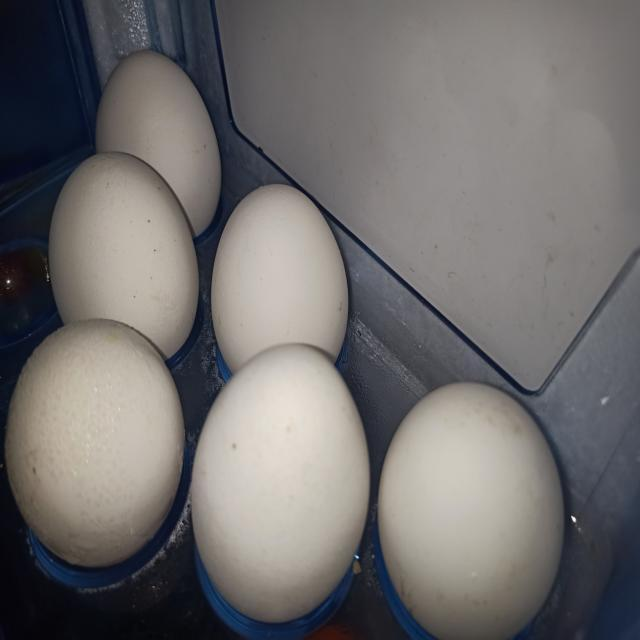Egg: (191, 344, 370, 624), (379, 383, 565, 640), (4, 318, 184, 568), (48, 151, 198, 359), (211, 184, 348, 374), (95, 50, 221, 237)
